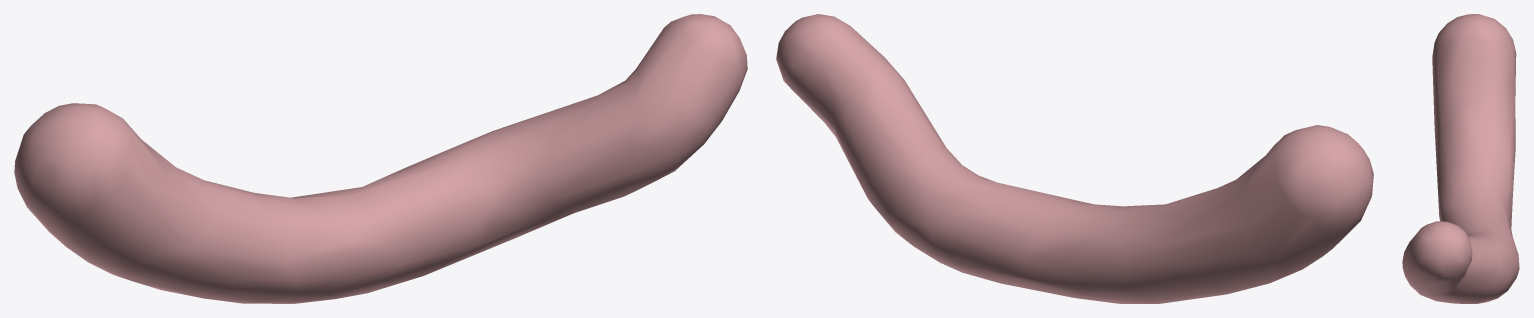
The model's file is fma14542.glb.
3 views of the same model, side by side, from view 1: azimuth 30°, elevation 25°; view 2: azimuth 150°, elevation 25°; view 3: azimuth 270°, elevation 25° (orthographic). The views are drawn at different scales.
Parts seen in each view (by area): view 1: FMA14542; view 2: FMA14542; view 3: FMA14542.
Boxes of the visible parts, x1,y1,x2,y2 form: FMA14542: (14,14,747,303); FMA14542: (776,14,1373,303); FMA14542: (1402,14,1519,303).
Bounding box in the file's own units: 0.0484 × 0.0167 × 0.0111.
